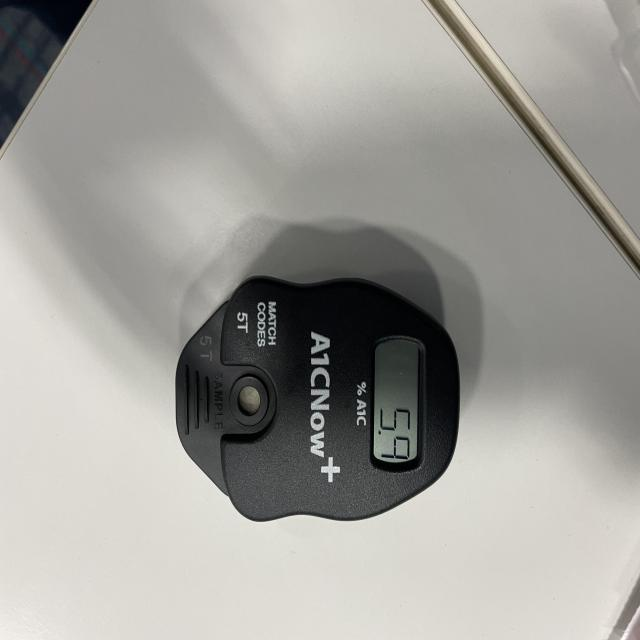hba1c: (175, 277, 462, 524)
